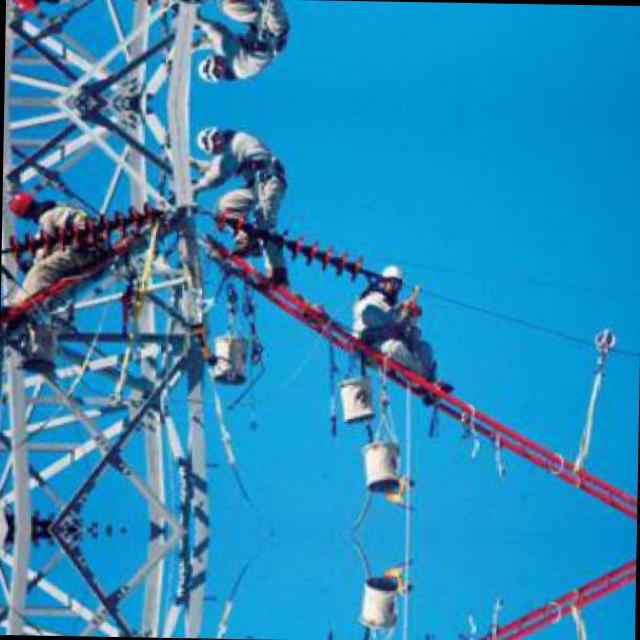helmet: (190, 121, 232, 156), (191, 53, 233, 88), (6, 185, 42, 220), (376, 260, 404, 296), (8, 0, 45, 18)
